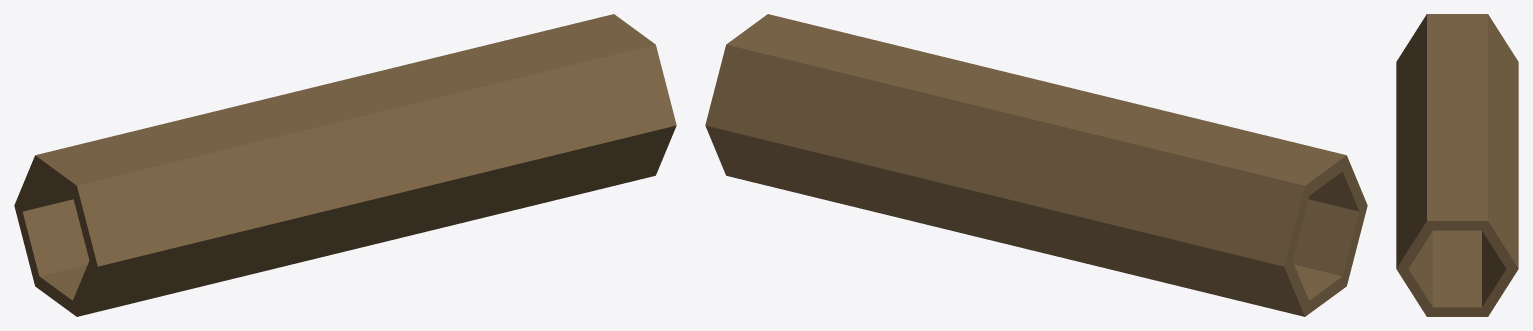
Rendered from log1.dae.
The picture shows the model from 3 angles, left to right: view 1: azimuth 30°, elevation 25°; view 2: azimuth 150°, elevation 25°; view 3: azimuth 270°, elevation 25°; orthographic projection. The views are drawn at different scales.
Visible parts, largest first — view 1: mesh; view 2: mesh; view 3: mesh.
Boxes of the visible parts, left/top/right/bottom form: mesh: left=14, top=14, right=676, bottom=316; mesh: left=705, top=14, right=1367, bottom=316; mesh: left=1396, top=14, right=1518, bottom=316.
Bounding box in the file's own units: 4 × 1 × 0.866.
